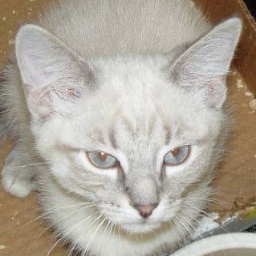cat: (4, 4, 237, 256)
